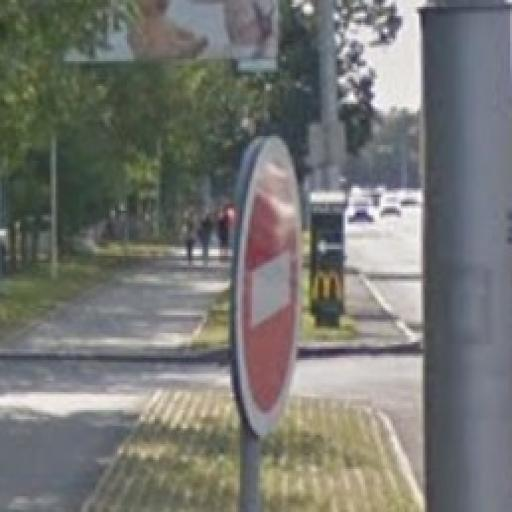traffic_sign: (231, 135, 307, 441)
